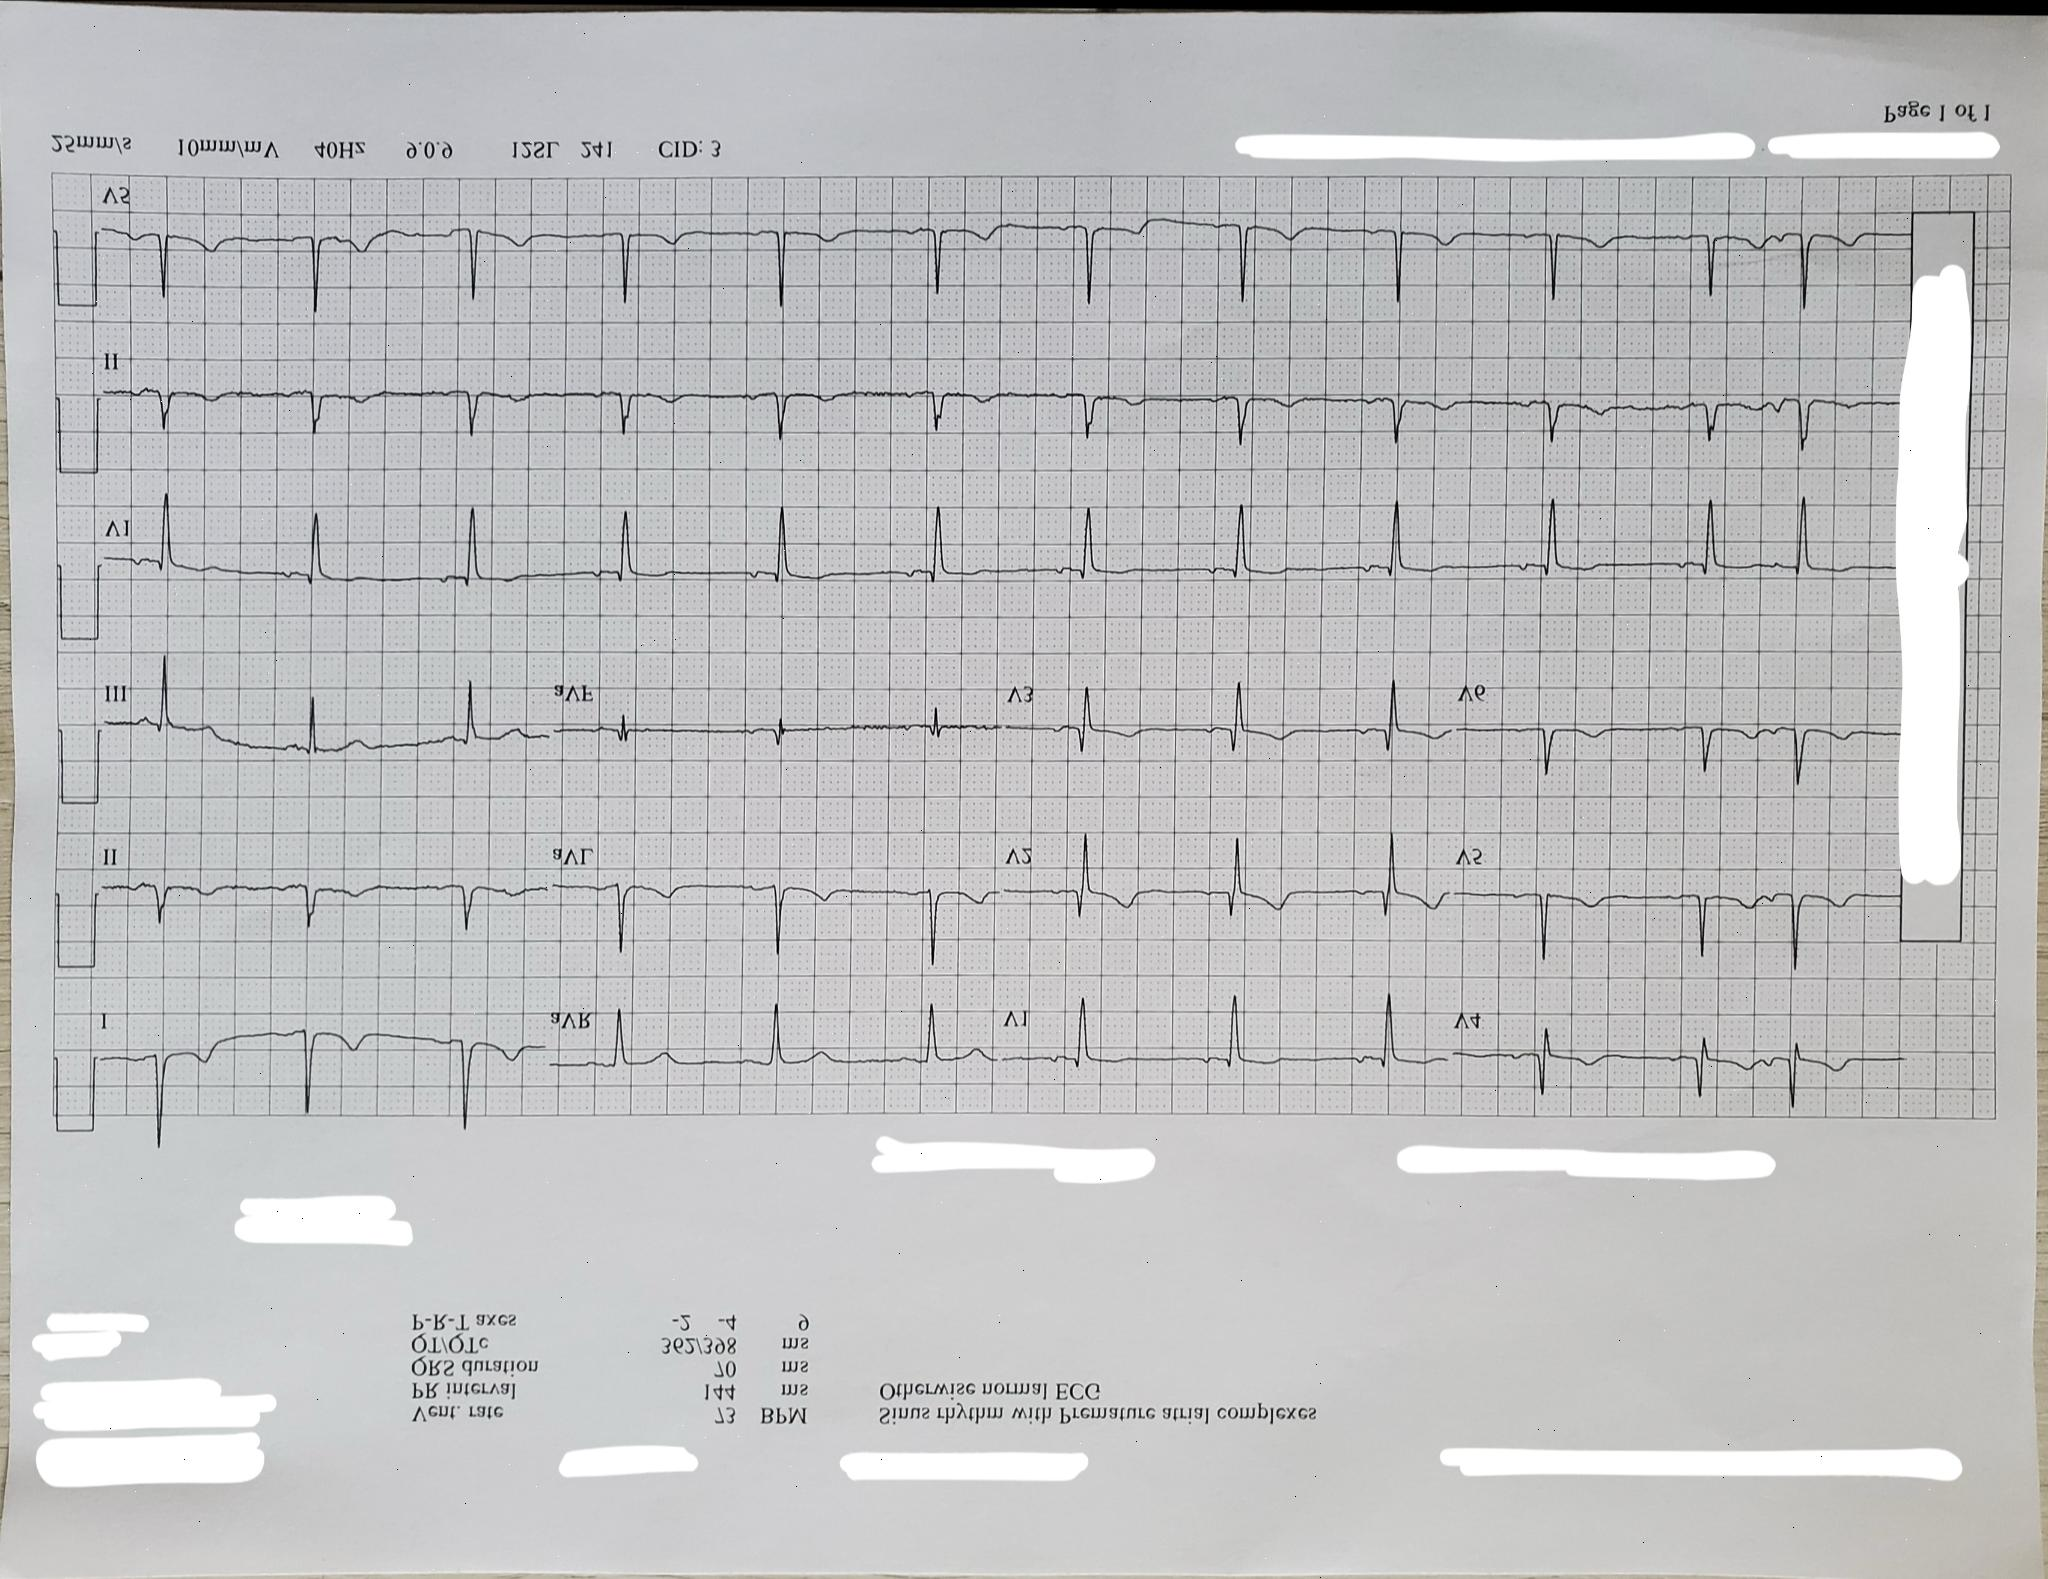Lead_I: (85, 987, 534, 1148)
Lead_II: (90, 813, 537, 974)
Lead_III: (90, 640, 537, 791)
Lead_II_ext: (95, 335, 1881, 464)
Lead_V1: (998, 972, 1449, 1121), (104, 468, 539, 614)
Lead_V2: (1002, 814, 1456, 967)
Lead_V3: (997, 630, 1454, 798)
Lead_V4: (1449, 980, 1927, 1113)
Lead_V5: (1454, 831, 1889, 980), (96, 168, 544, 312)
Lead_V6: (1451, 649, 1889, 801)
Lead_aVF: (541, 619, 983, 791)
Lead_aVL: (541, 804, 985, 974)
Lead_aVR: (541, 984, 995, 1121)
